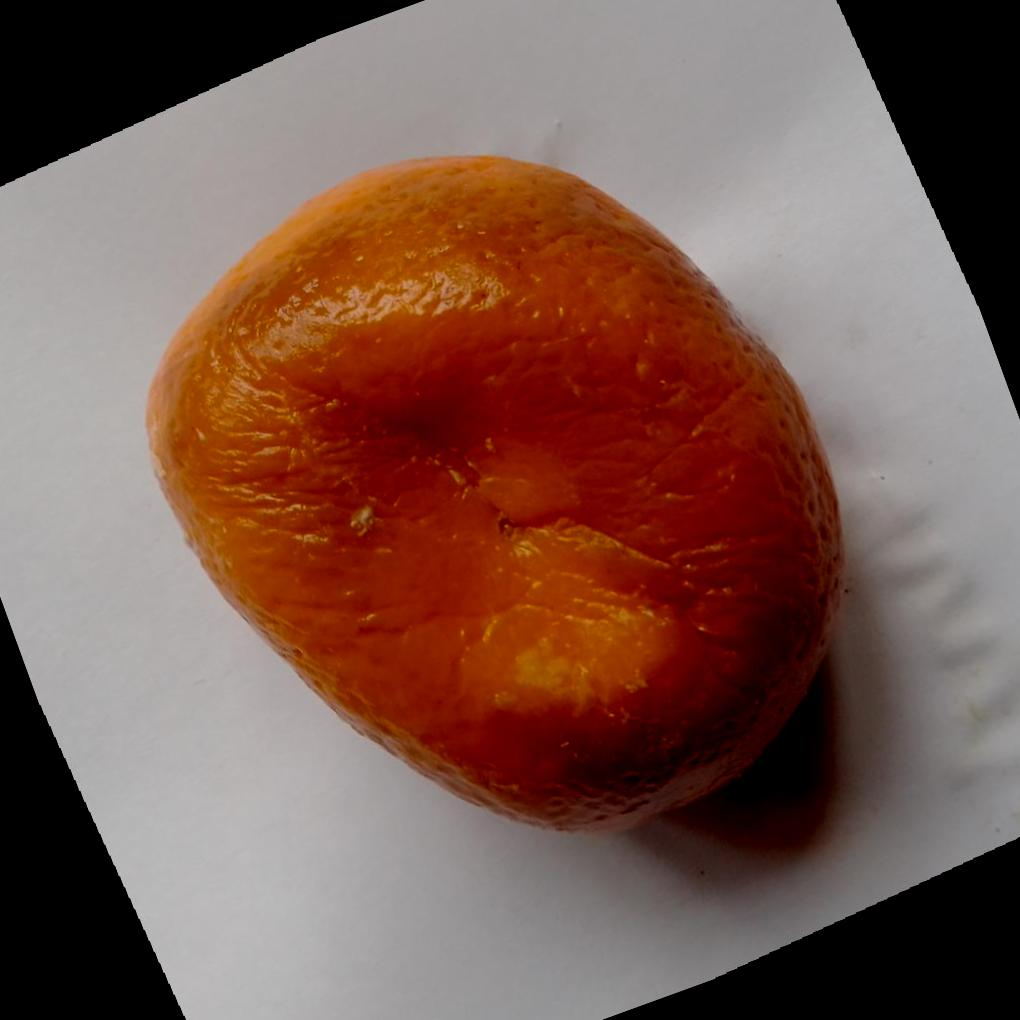FreshOrange: (140, 147, 846, 833)
